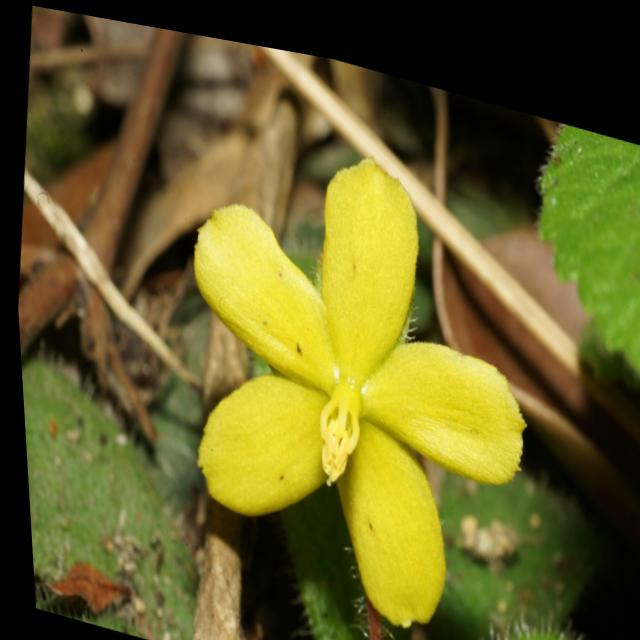Flower: (162, 92, 560, 633)
